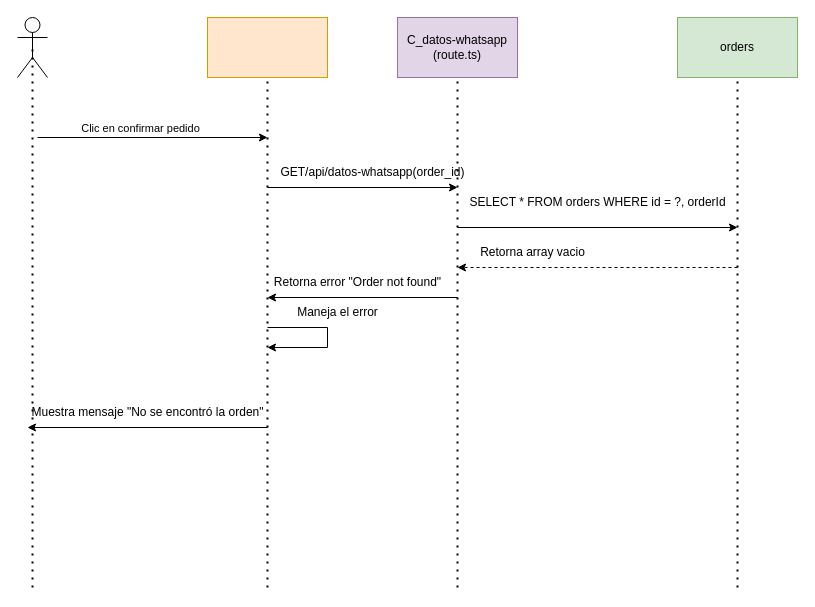
Image size: 815x607. Some labels were removed from this diagram. Each missing label, with the centre of its shape:
Actor: point 32,47
V_redireccion-whattsap: point 267,47
